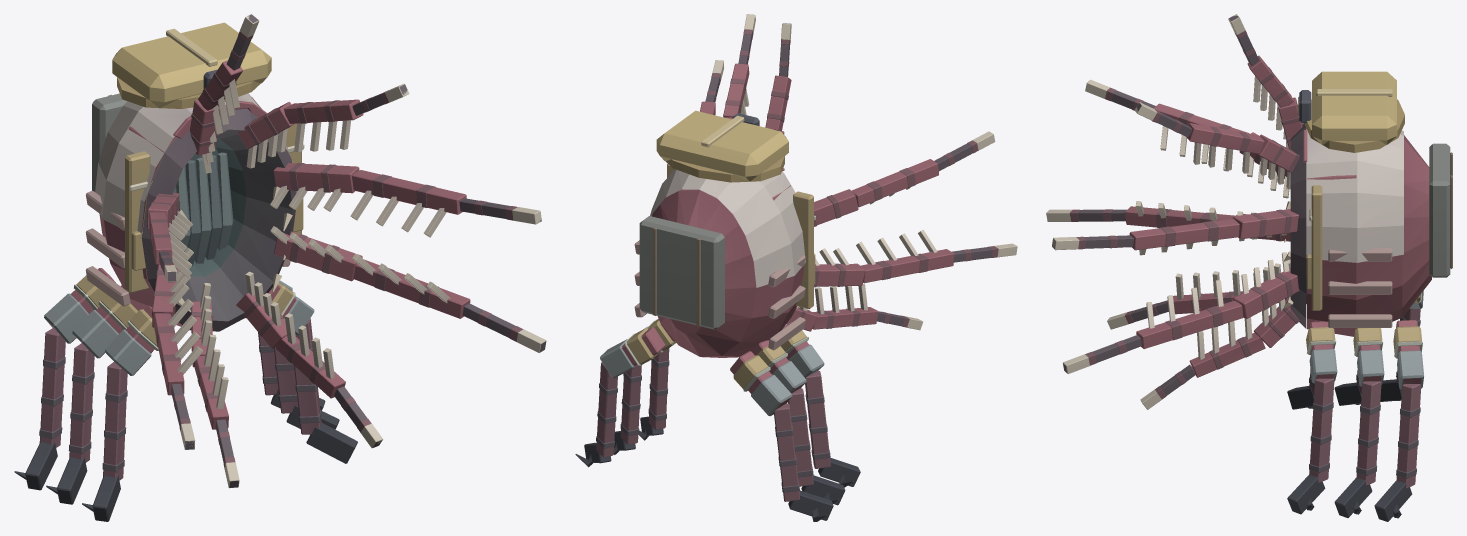
File: AdaptedVisceraMiner.glb
The picture shows the model from 3 angles, left to right: view 1: azimuth 30°, elevation 25°; view 2: azimuth 150°, elevation 25°; view 3: azimuth 270°, elevation 25°; orthographic projection. The views are drawn at different scales.
Parts seen in each view (by area): view 1: Body, LegR, ArmR, ArmL, LegL; view 2: Body, LegR, LegL, ArmR, ArmL; view 3: Body, LegL, ArmL, LegR, ArmR.
Part boxes in pixels (bbox=[...]): Body: bbox=[46, 14, 546, 504]; LegR: bbox=[14, 268, 115, 490]; ArmR: bbox=[82, 305, 158, 521]; ArmL: bbox=[268, 283, 357, 463]; LegL: bbox=[258, 333, 325, 410]; Body: bbox=[613, 14, 1017, 505]; LegR: bbox=[730, 351, 833, 521]; LegL: bbox=[575, 327, 665, 467]; ArmR: bbox=[781, 322, 860, 487]; ArmL: bbox=[638, 342, 676, 440]; Body: bbox=[1046, 14, 1452, 517]; LegL: bbox=[1374, 320, 1423, 521]; ArmL: bbox=[1287, 321, 1337, 514]; LegR: bbox=[1380, 291, 1423, 401]; ArmR: bbox=[1287, 369, 1314, 409].
Size of the model in its own units: 8.02 by 10.39 by 8.69.
